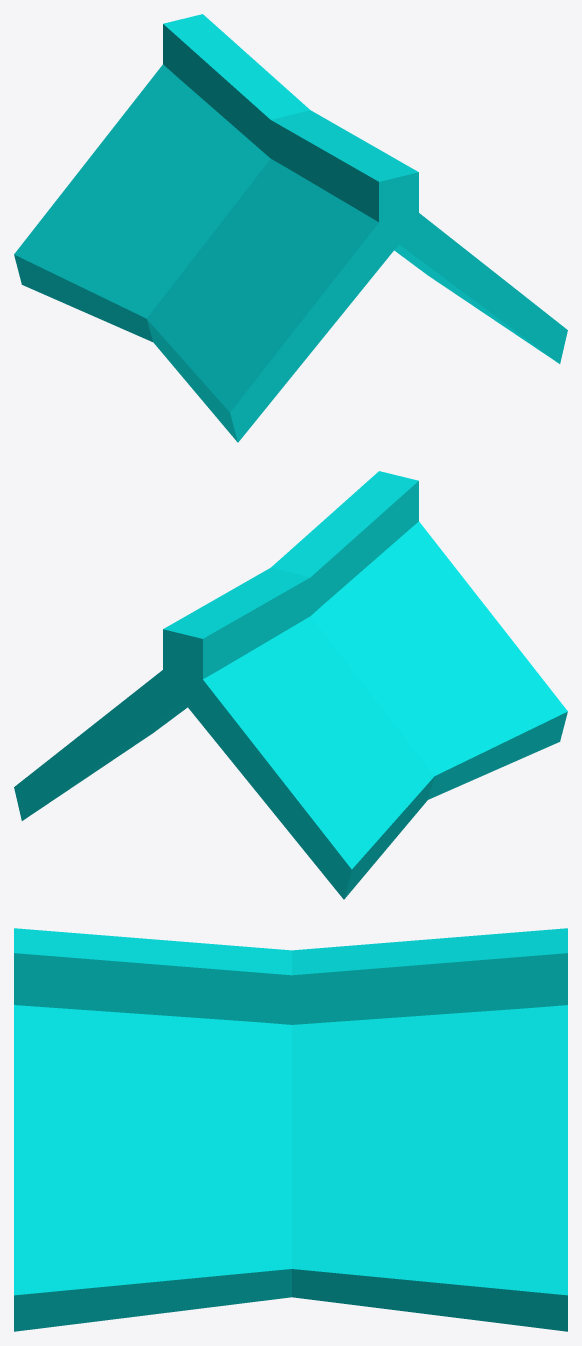
Rendered from SM_Bld_Roof_Thatch_Preset_01_Collision.fbx.
3 renders of one model, top to bottom at view 1: azimuth 30°, elevation 25°; view 2: azimuth 150°, elevation 25°; view 3: azimuth 270°, elevation 25°, orthographic. The views are drawn at different scales.
Parts seen in each view (by area): view 1: SM_Bld_Roof_Thatch_Preset_01_Collision; view 2: SM_Bld_Roof_Thatch_Preset_01_Collision; view 3: SM_Bld_Roof_Thatch_Preset_01_Collision.
Boxes of the visible parts, x1=… form: SM_Bld_Roof_Thatch_Preset_01_Collision: x1=14, y1=14, x2=567, y2=442; SM_Bld_Roof_Thatch_Preset_01_Collision: x1=14, y1=471, x2=567, y2=899; SM_Bld_Roof_Thatch_Preset_01_Collision: x1=14, y1=928, x2=567, y2=1331.
Size of the model in its own units: 451 by 289 by 500.
